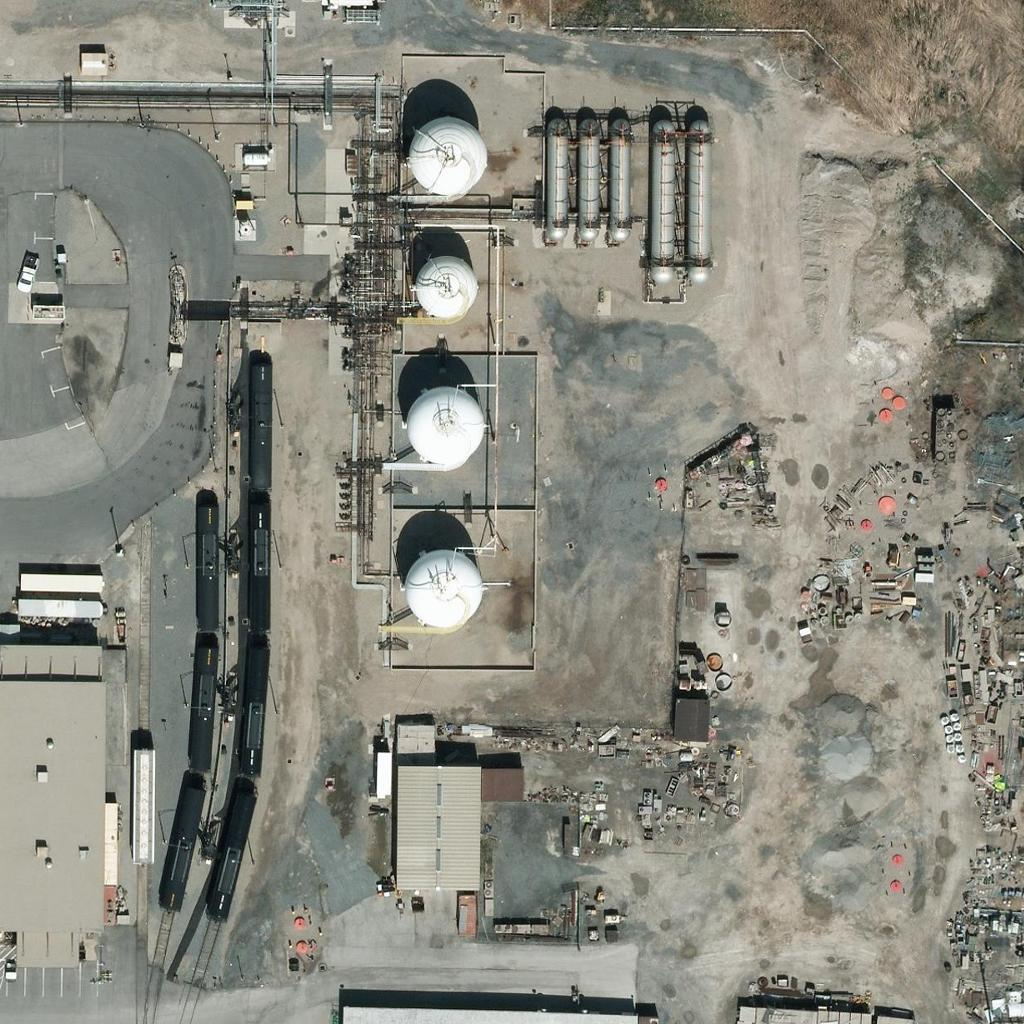car: (8, 258, 42, 292)
